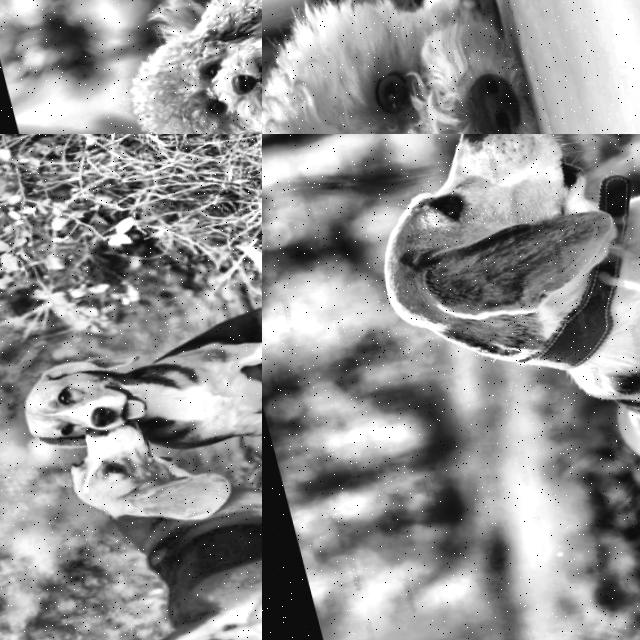beagle: (311, 134, 640, 413), (38, 391, 248, 559), (0, 326, 168, 477)
poodle: (262, 0, 640, 134), (64, 0, 262, 134)
